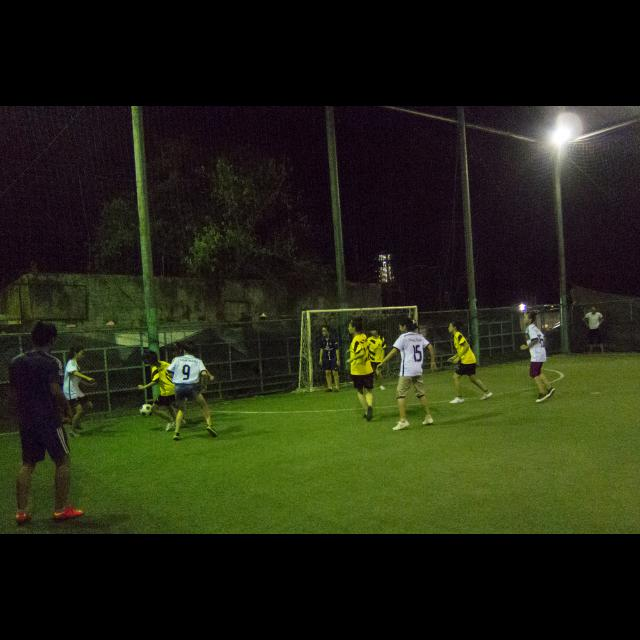Football: (138, 402, 150, 418)
